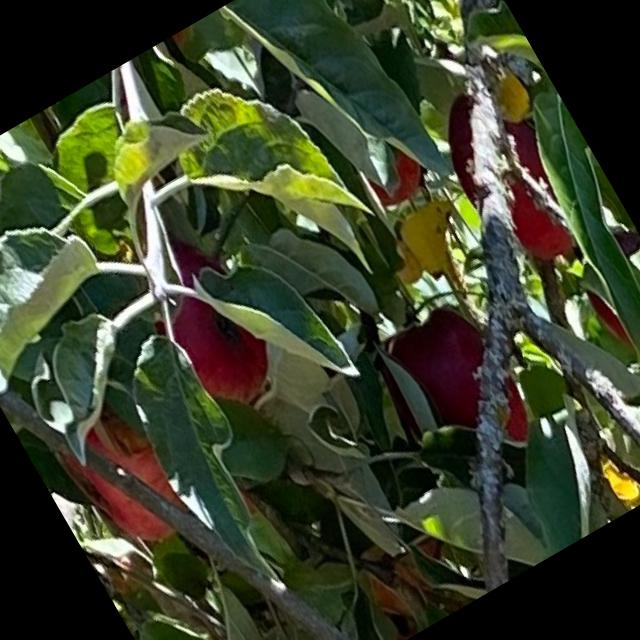Apples: (422, 69, 598, 281), (122, 226, 286, 422), (378, 290, 542, 478), (50, 394, 197, 562), (560, 215, 639, 362), (357, 137, 433, 214)
